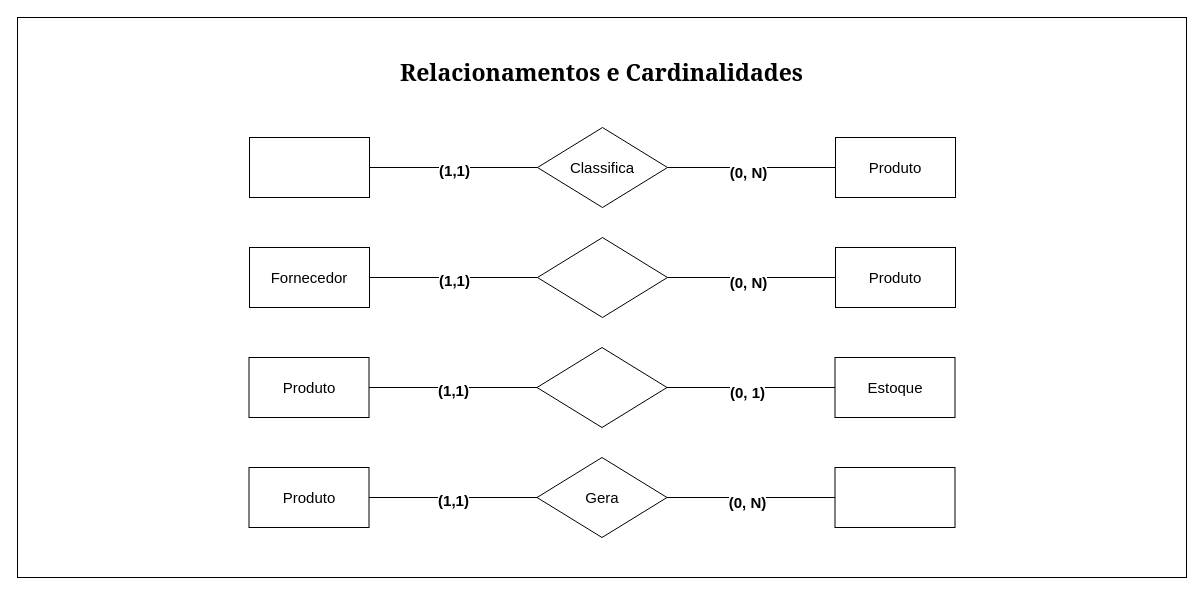
The diagram is 1204 pixels wide and 595 high, and some of its shapes have lost their labels. Each missing label, with the centre of its shape:
Categoria: pixel 309 167
Fornece: pixel 602 277
Mantem: pixel 601 387
Movimentação Estoque: pixel 894 497
